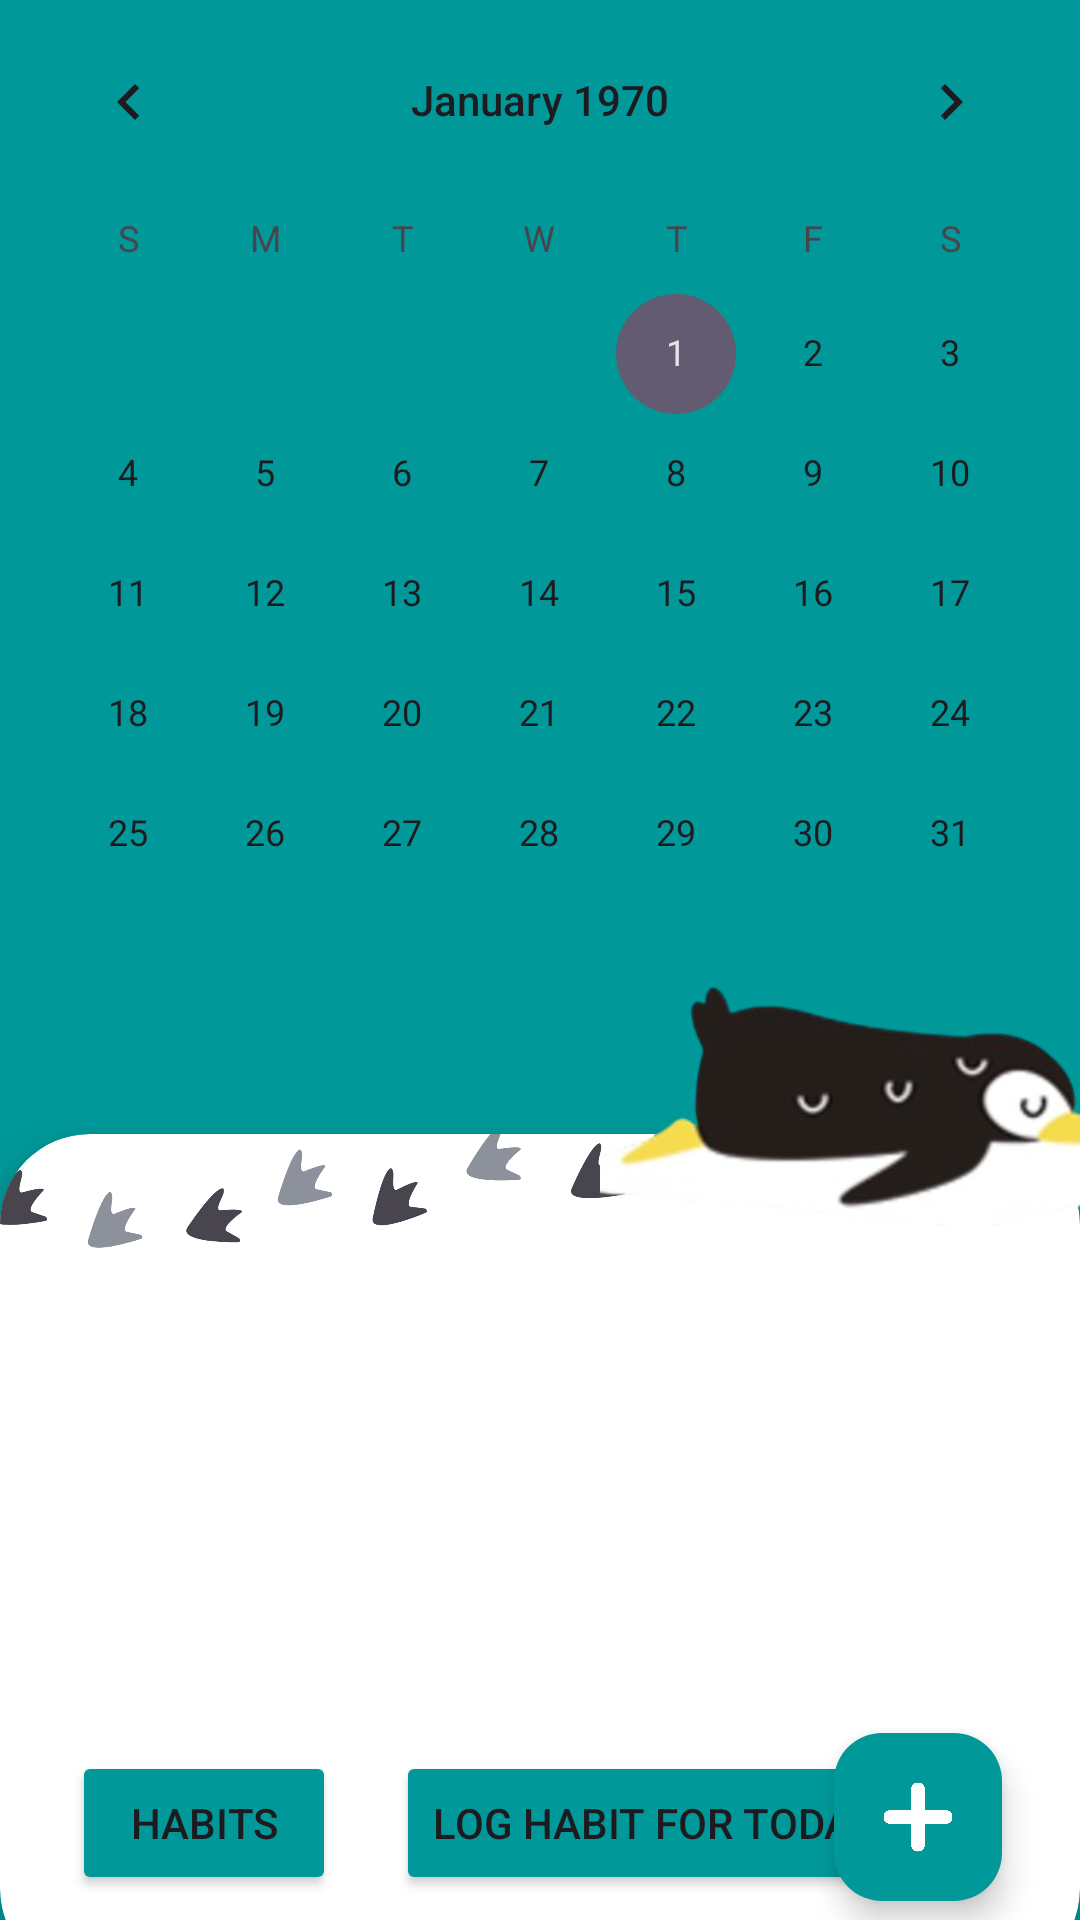

Icons on this 1080px x 1920px Android screen, each with its box as (x1, y1, x2, y2):
add sign: (834, 1733, 1002, 1901)
